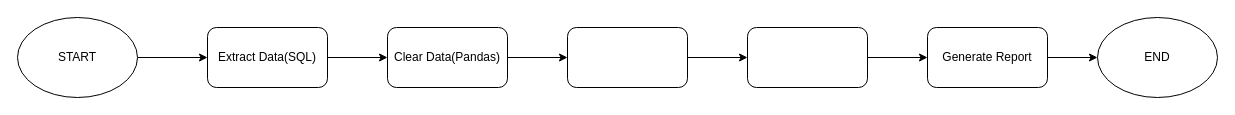
Some shapes in this 1235 by 115 pixel diagram are drawn without their labels. Each missing label, with the centre of its shape:
Calculate PD, LGD, EAD: (x=627, y=57)
Compute ECL: (x=807, y=57)
